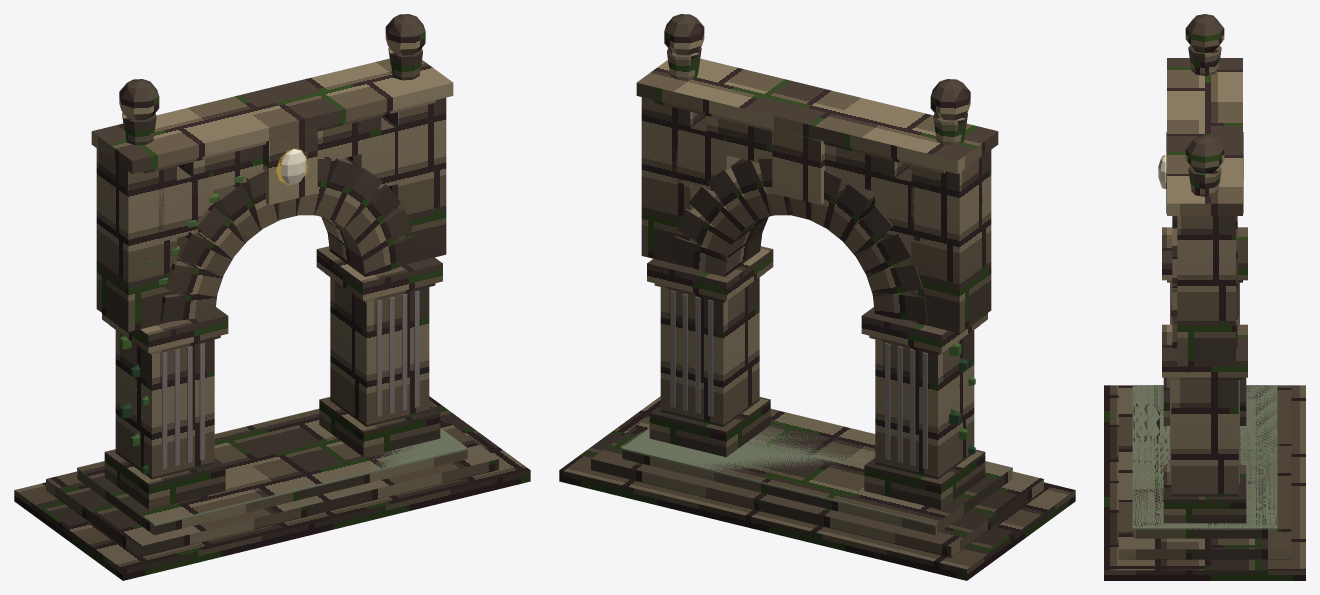
The model's file is riftgate_arch.glb.
3 renders of one model, left to right at view 1: azimuth 30°, elevation 25°; view 2: azimuth 150°, elevation 25°; view 3: azimuth 270°, elevation 25°, orthographic. The views are drawn at different scales.
Visible parts, largest first — view 1: riftgate_arch; view 2: riftgate_arch; view 3: riftgate_arch.
Boxes of the visible parts, x1=… form: riftgate_arch: x1=14, y1=14, x2=530, y2=580; riftgate_arch: x1=559, y1=14, x2=1075, y2=580; riftgate_arch: x1=1104, y1=14, x2=1305, y2=580.
Size of the model in its own units: 5.2 by 5.41 by 2.4.
2 materials, 1 textured.
